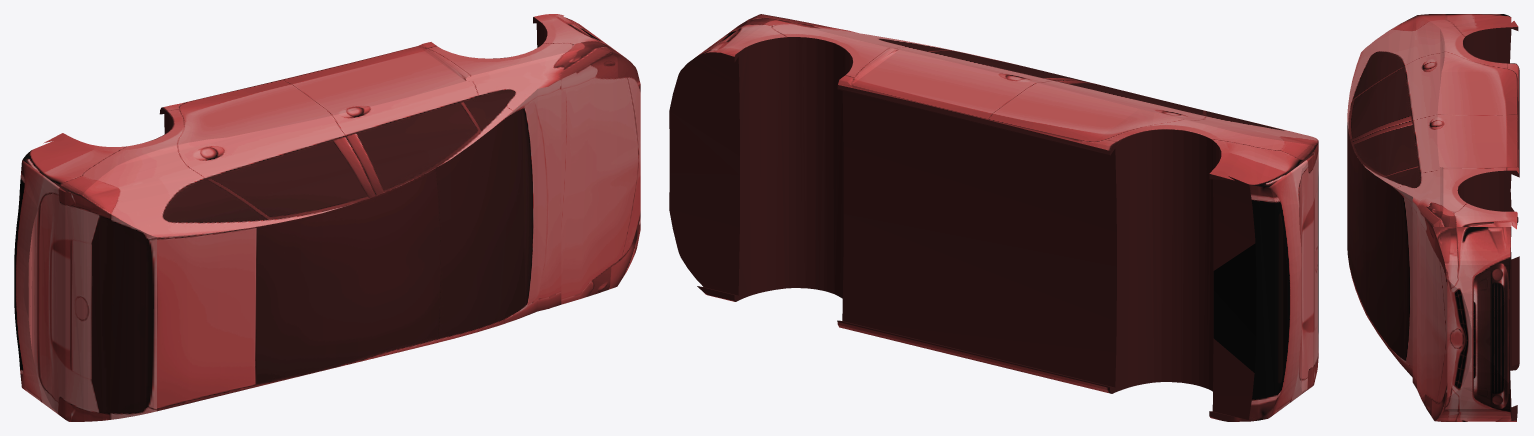
Rendered from red_prius.dae.
The picture shows the model from 3 angles, left to right: view 1: azimuth 30°, elevation 25°; view 2: azimuth 150°, elevation 25°; view 3: azimuth 270°, elevation 25°; orthographic projection. The views are drawn at different scales.
Parts seen in each view (by area): view 1: node; view 2: node; view 3: node.
Boxes of the visible parts, x1,y1,x2,y2 form: node: (14,14,640,421); node: (669,14,1318,421); node: (1347,14,1519,421).
Bounding box in the file's own units: 4.63 × 1.82 × 1.4.
Materials: 1 (1 with a texture image).
